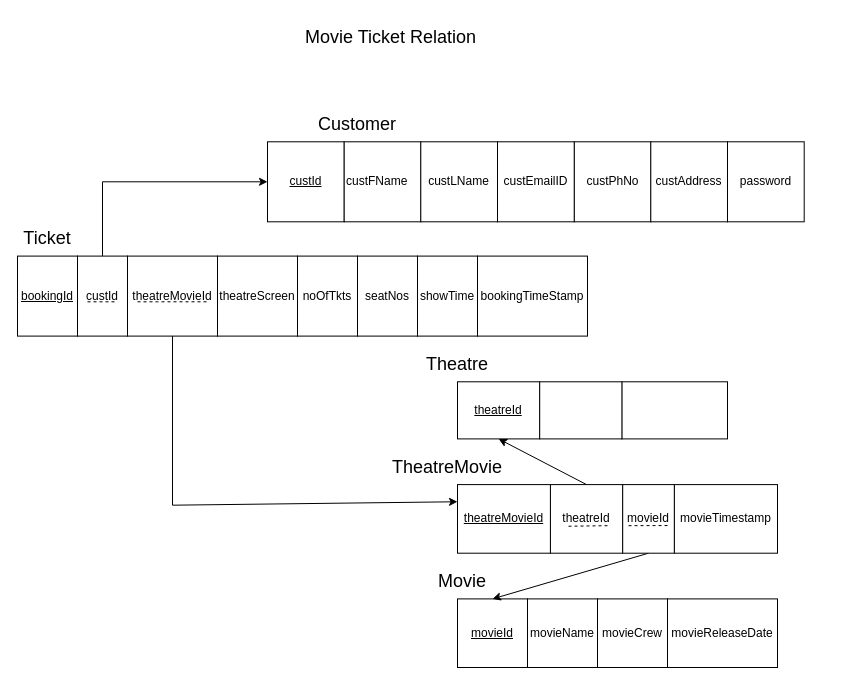
This 852x685 diagram has some shape labels left out. Each missing label, with the box of its shape:
theatreAddress: (621, 381, 728, 439)
theatreName: (539, 381, 622, 439)
